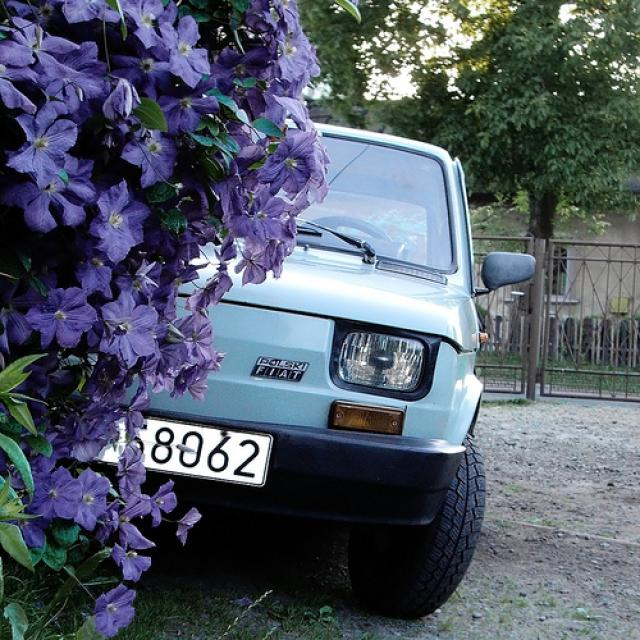Car: (22, 143, 500, 610)
